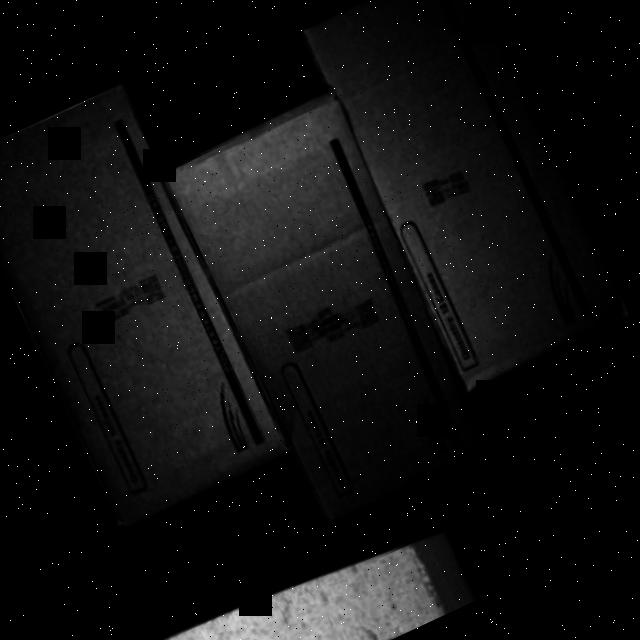box: (160, 99, 498, 526), (0, 73, 299, 534), (297, 0, 632, 386)
